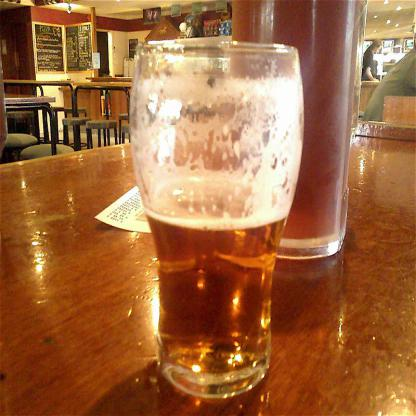drinking: (130, 41, 304, 399), (230, 0, 369, 260)
